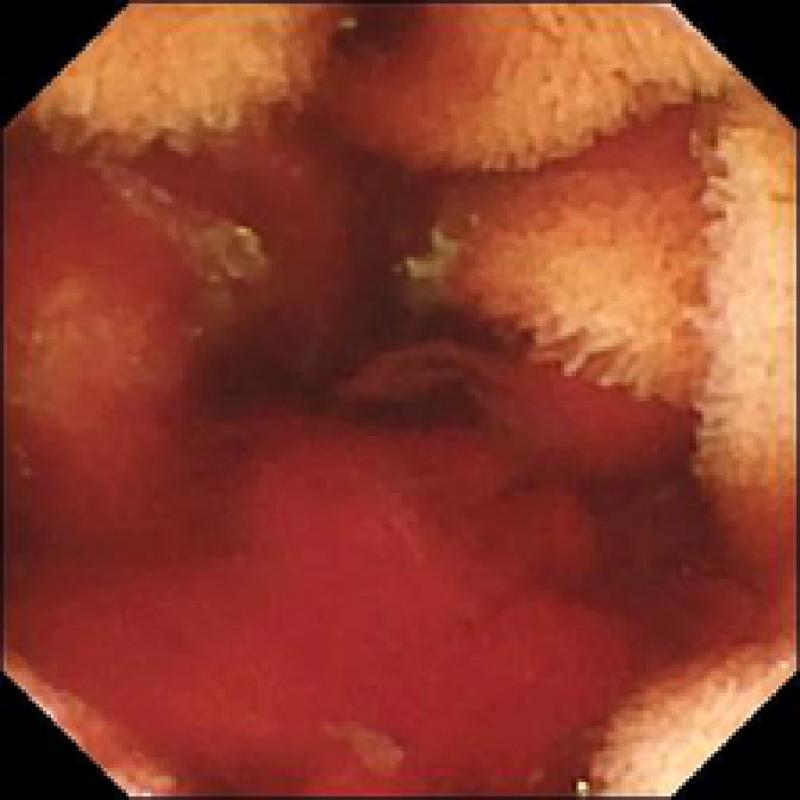bleeding: (7, 82, 700, 800)
